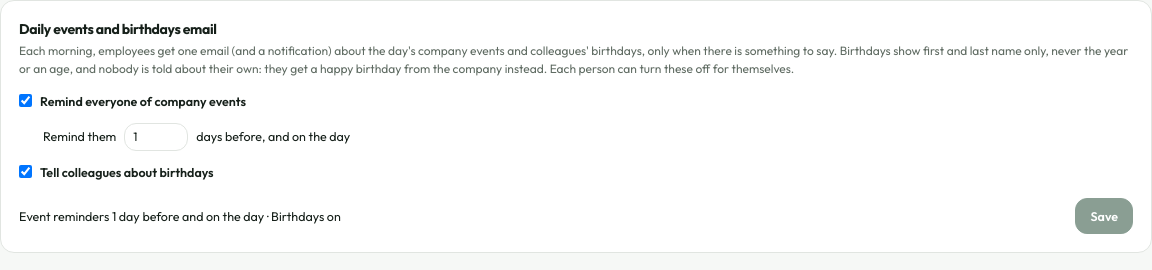
it: Daily events and birthdays email settings › turning event reminders off greys out the days
expect the text "Event reminders 1 day before and on the day · Birthdays on" is shown: met, box [19,206,341,225]
Click the checkbox labelled "Remind everyone of company events": coordinates (26, 100) [19,94,32,107]
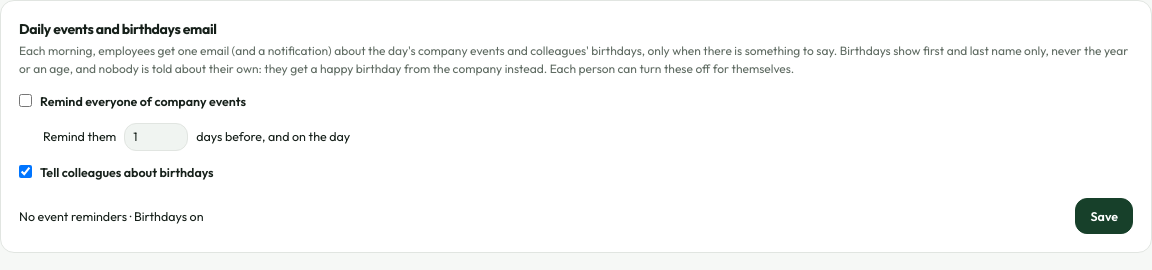
expect the number field named "Days before an event" is disabled: met, box [124,123,188,151]
expect the text "No event reminders · Birthdays on" is shown: met, box [19,206,204,225]
